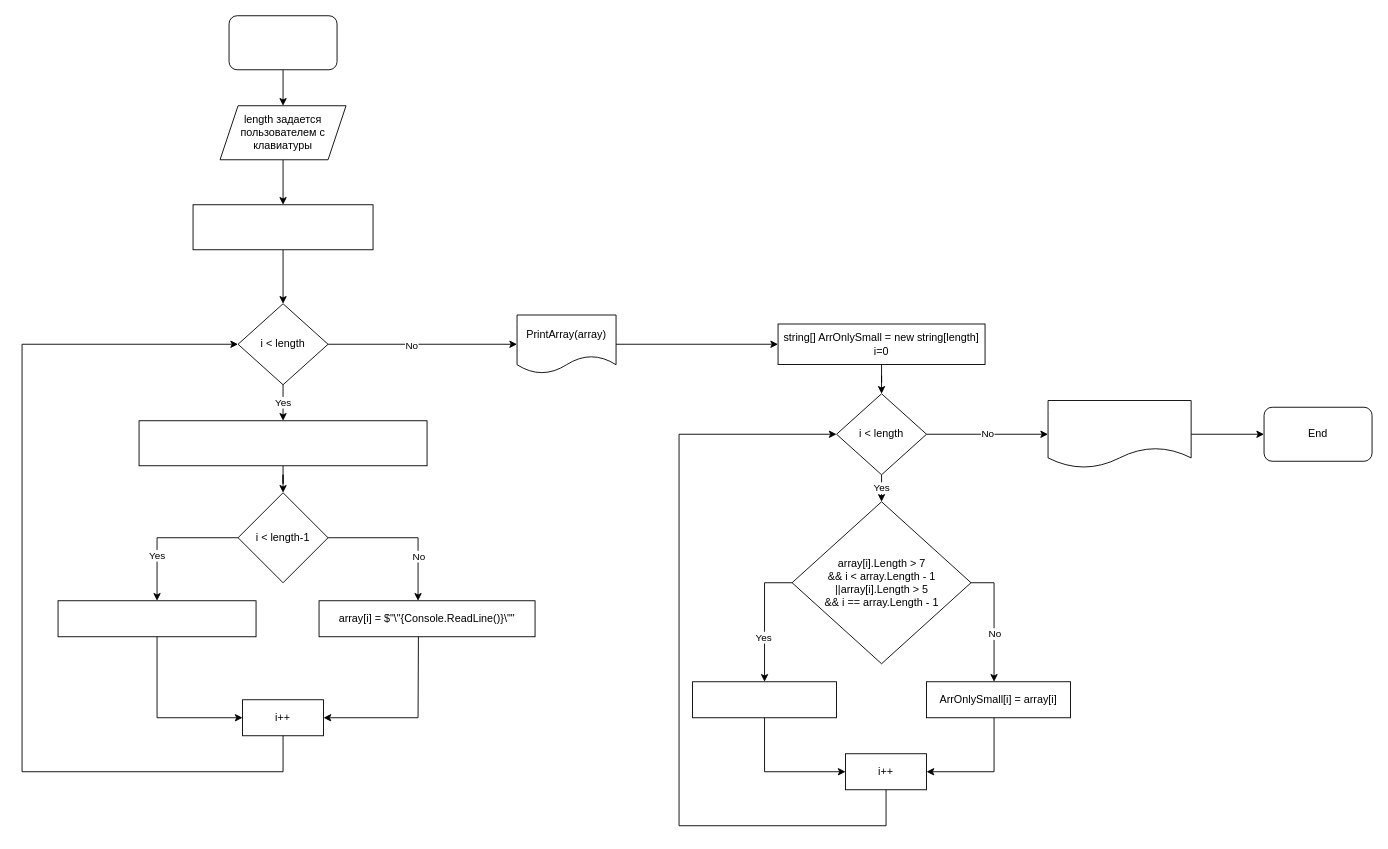
Some shapes in this 1388 by 849 pixel diagram are drawn without their labels. Here are the shapes that lost their labels. From the top down, the centre of each, then its label:
pixel 282 42: Start
pixel 282 227: string[] array = new string[length] i = 0
pixel 282 443: Console.WriteLine($"Введите {i + 1} элемент массива")
pixel 1119 434: PrintArray(ArrOnlySmall)
pixel 156 618: array[i] = $"\"{Console.ReadLine()}\", "
pixel 764 699: ArrOnlySmall[i] = ""
